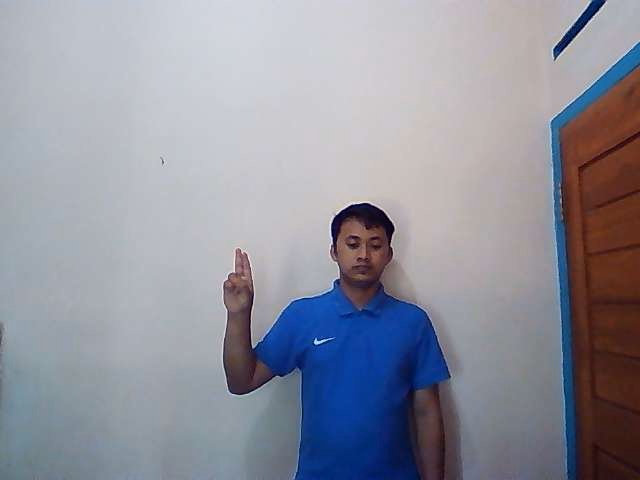U: (222, 246, 255, 313)
